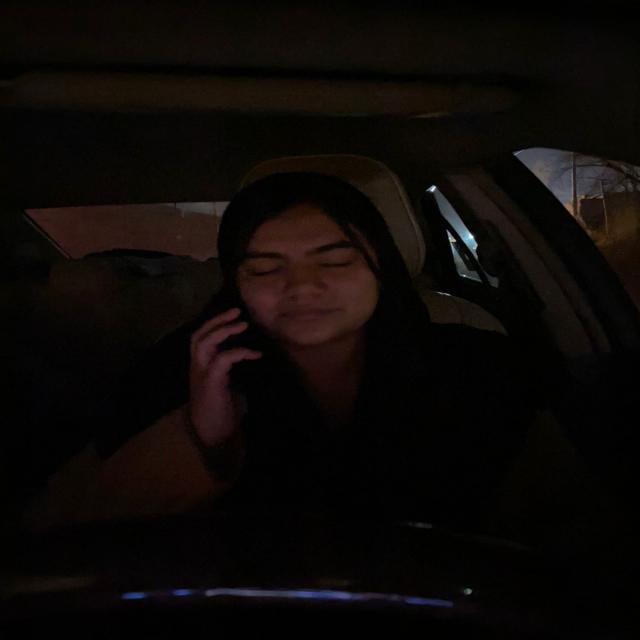drowsy: (210, 164, 420, 357)
